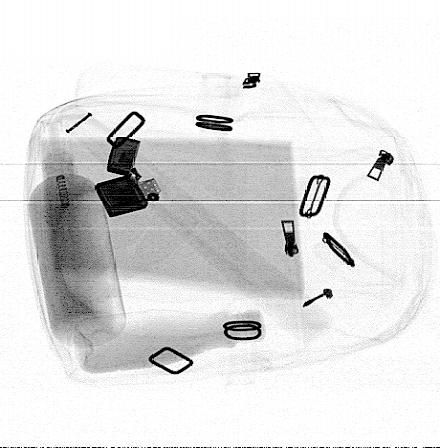Lighter: (94, 136, 163, 219)
